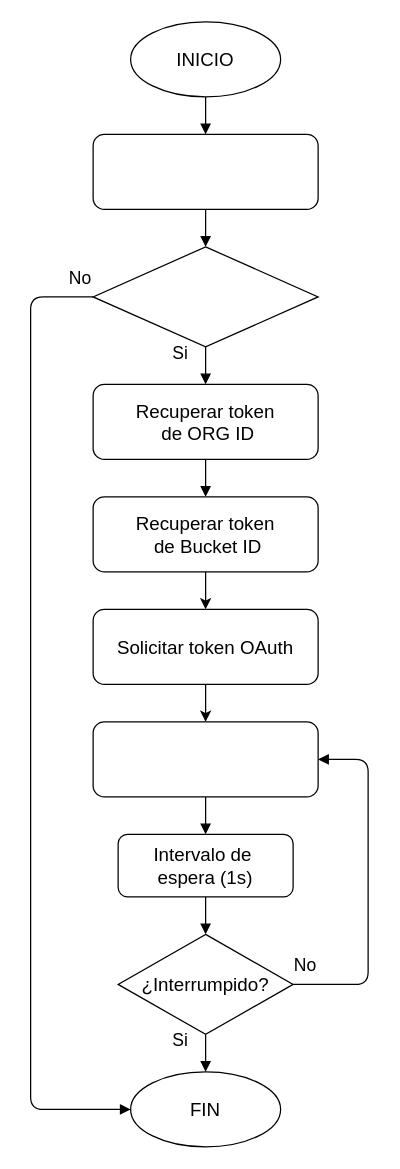
Some shapes in this 400 by 1169 pixel diagram are drawn without their labels. The centre of each missing label's shape, as x and y in pixels:
"Instanciar IIoT_Sensor" belongs at (x=205, y=171).
"Simular datos y transmitir" belongs at (x=205, y=759).
"¿Es alcanzable la DB?" belongs at (x=205, y=296).
